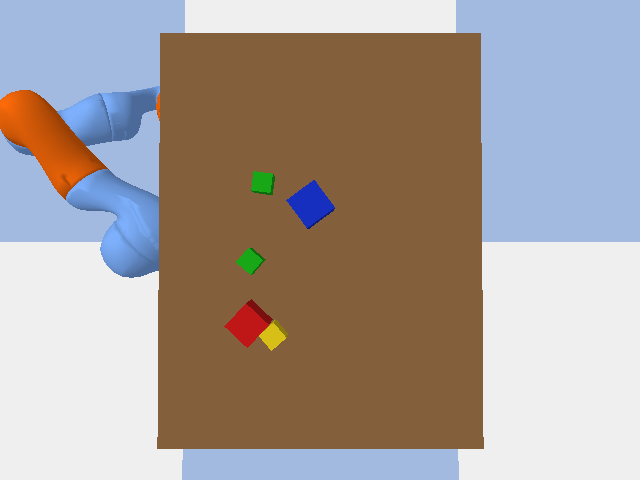blue_obj: (286, 180, 334, 228)
green_obj: (236, 248, 265, 274), (251, 171, 274, 194)
red_obj: (224, 299, 272, 347)
yellow_obj: (259, 319, 287, 350)
